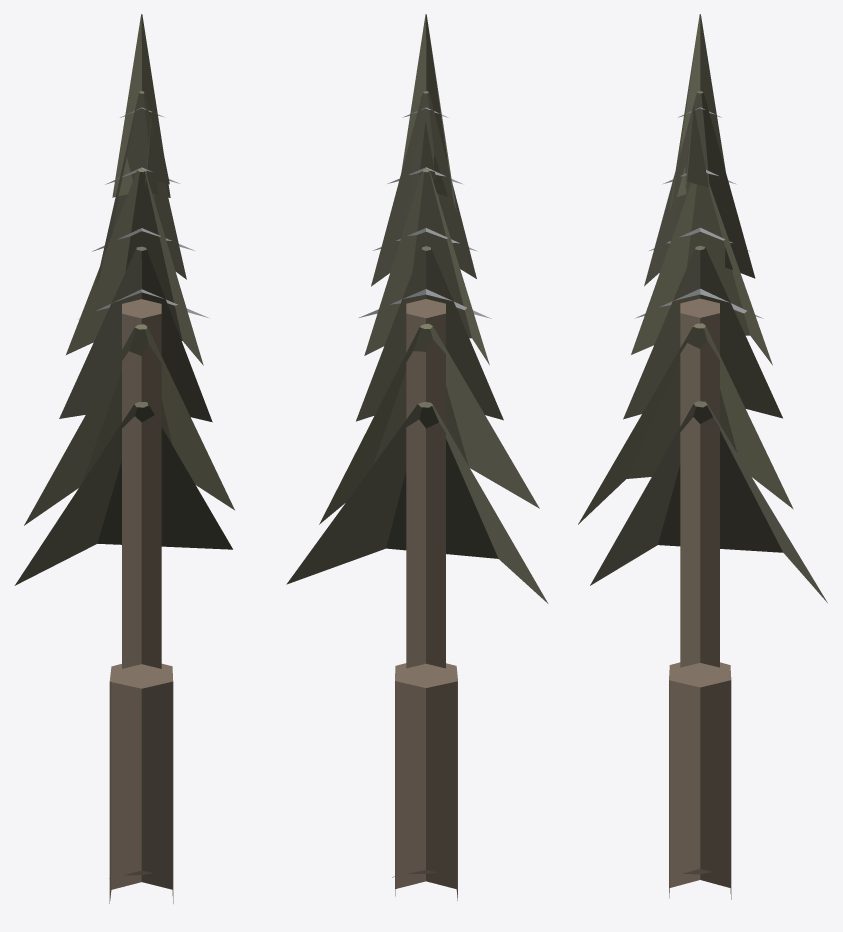
File: shu.luoye@subadult__winter.glb
3 views of the same model, side by side, from view 1: azimuth 30°, elevation 25°; view 2: azimuth 150°, elevation 25°; view 3: azimuth 270°, elevation 25° (orthographic).
Visible parts, largest first — view 1: shu.luoye@subadult__winter; view 2: shu.luoye@subadult__winter; view 3: shu.luoye@subadult__winter.
Part boxes in pixels (x1,y1,x2,y2): shu.luoye@subadult__winter: (14, 14, 234, 903); shu.luoye@subadult__winter: (286, 14, 548, 900); shu.luoye@subadult__winter: (578, 14, 827, 899).
Bounding box in the file's own units: 2.69 × 10.43 × 2.69.
